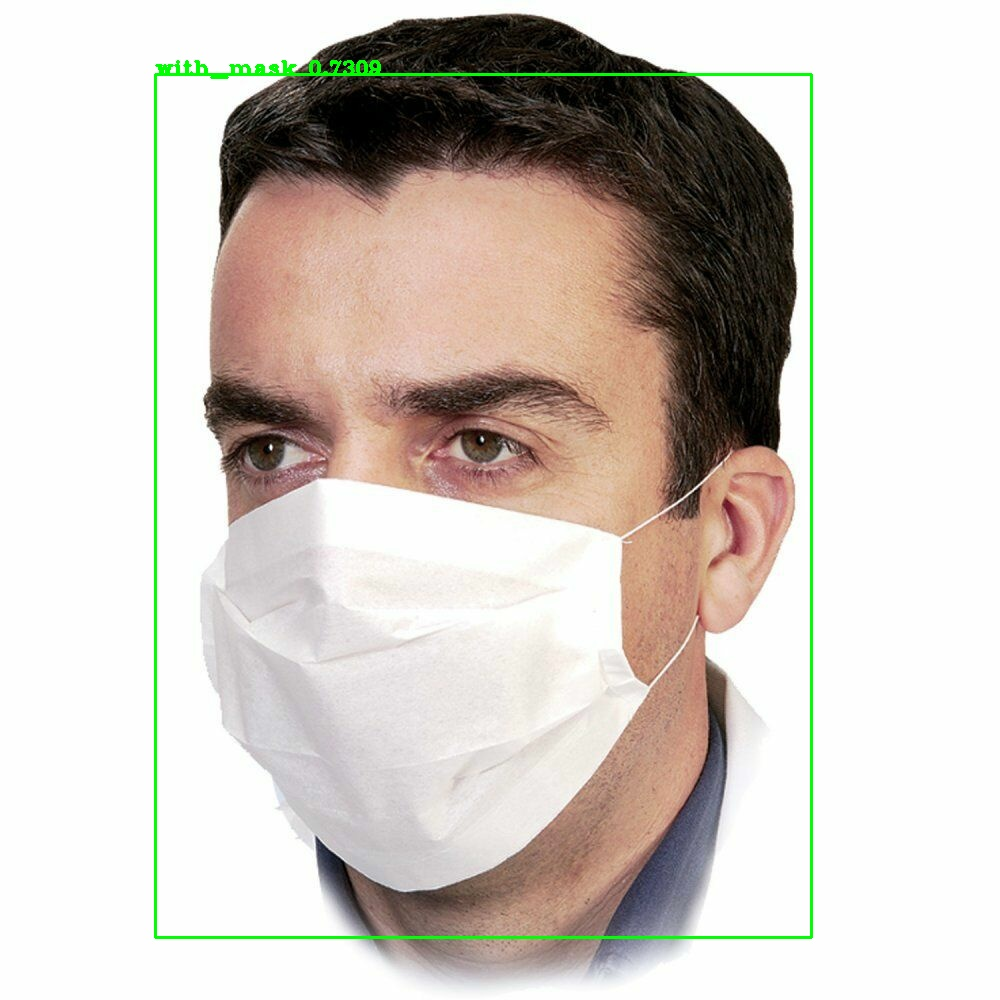with_mask: (188, 139, 856, 903)
